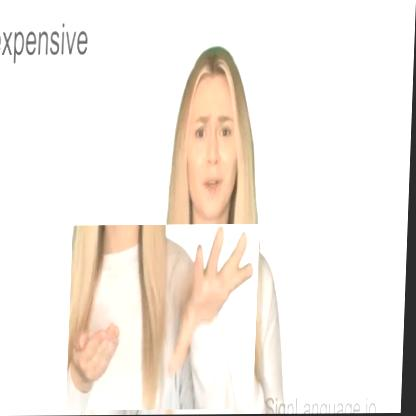Expensive: (69, 224, 261, 411)
